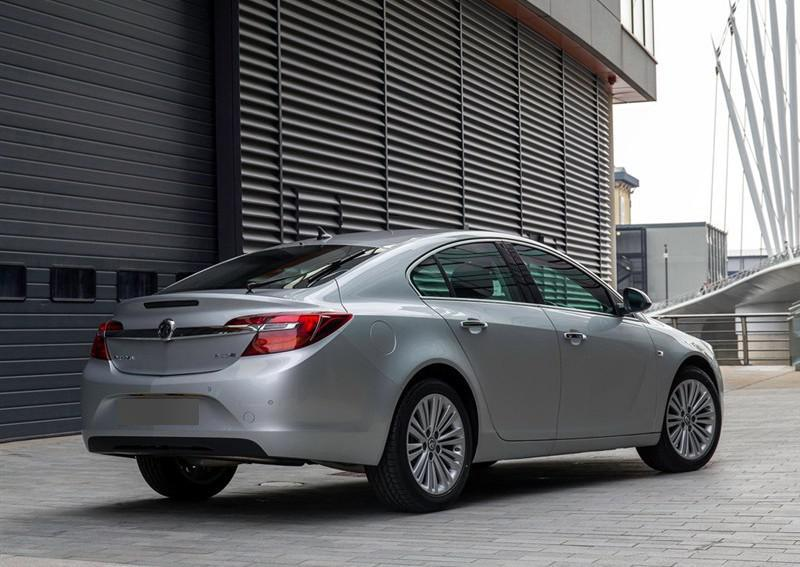Wagon: (80, 228, 724, 515)
